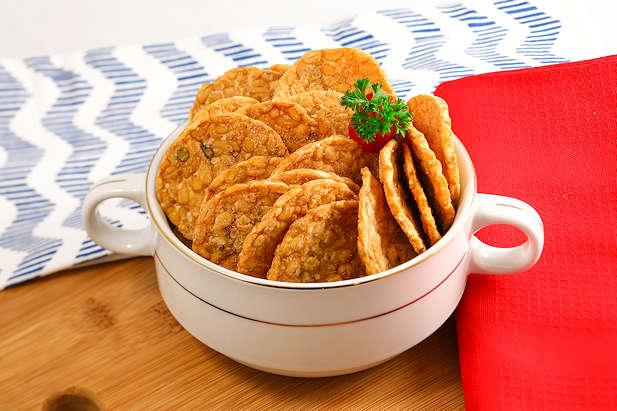kacang_legume: (194, 112, 338, 247), (355, 164, 436, 228)
